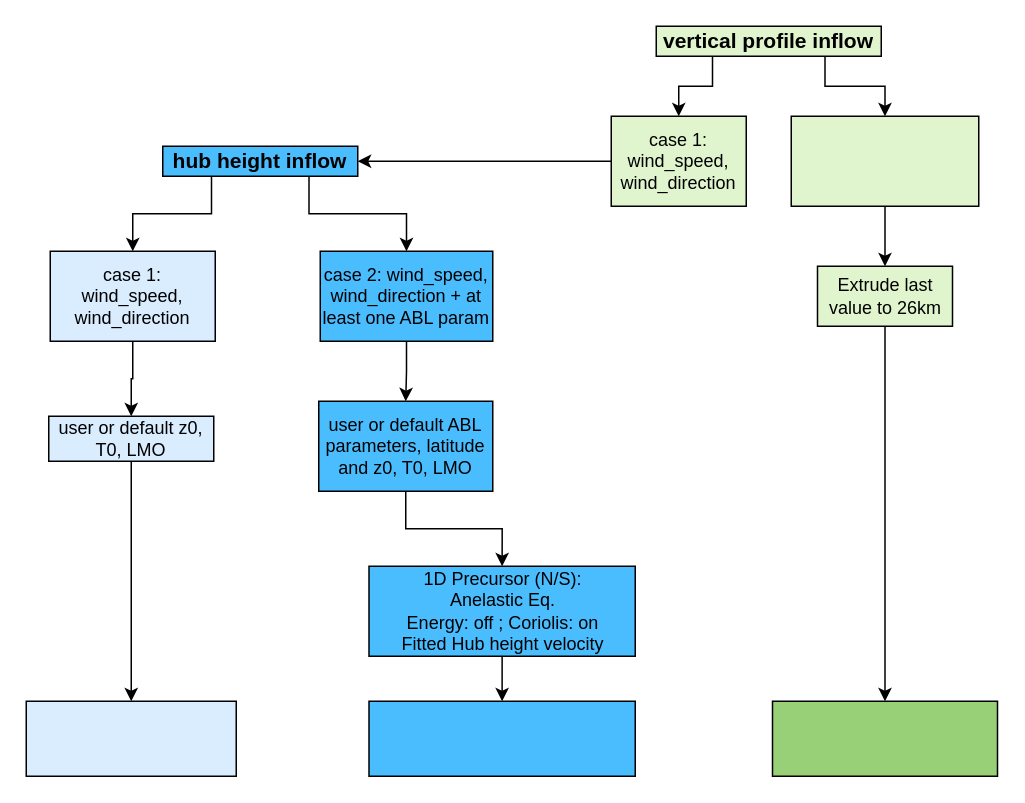
This 1025x803 diagram has some shape labels left out. The shapes that lost their labels are listed below. From the top down, each one's box as (x1, y1, x2, y2) in pixels, then its label:
(790, 115, 979, 206): case 2: wind_speed, wind_direction, potential_temperature
(25, 700, 236, 776): MOST profiles (N/S/U) Anelastic Eq. Energy: off ; Coriolis: off
(368, 700, 635, 776): Farm: Anelastic Eq. Energy: on ; Coriolis: on
(771, 700, 998, 776): Farm: Anelastic Eq. Energy: off ; Coriolis: on
